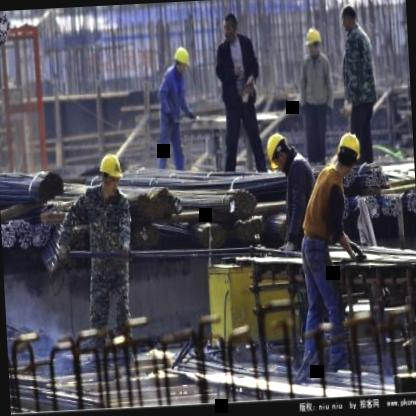head: (336, 0, 359, 38), (218, 13, 240, 46)
helmet: (96, 148, 123, 196), (334, 128, 362, 172), (264, 130, 294, 170), (303, 24, 323, 58), (172, 46, 190, 76)
